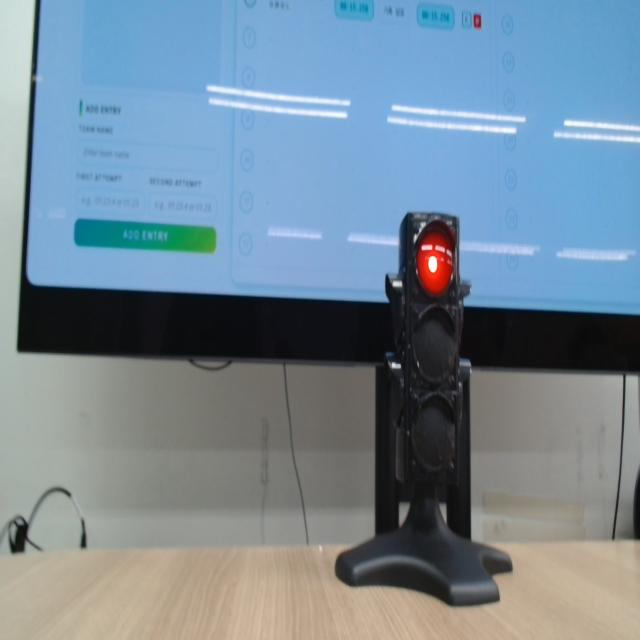red_light: (417, 229, 453, 295)
